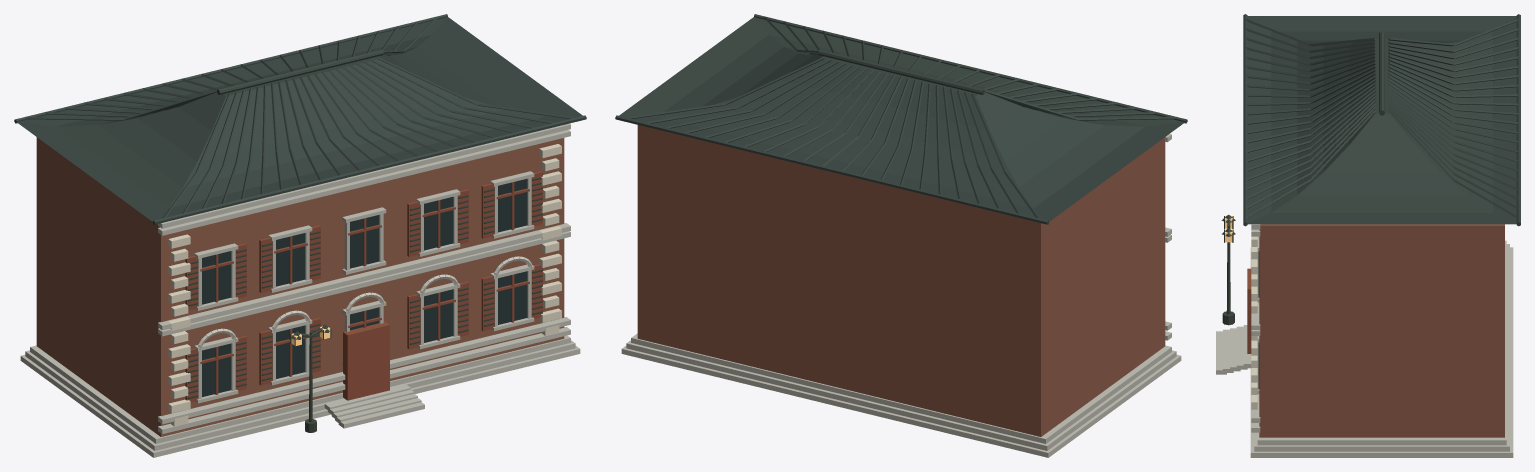
Rendered from beishan-villa.glb.
The picture shows the model from 3 angles, left to right: view 1: azimuth 30°, elevation 25°; view 2: azimuth 150°, elevation 25°; view 3: azimuth 270°, elevation 25°; orthographic projection.
Visible parts, largest first — view 1: Dark_Tile, Historic_RedBrick, Limestone, Lacquered_Wood, Deep_Glazing, White_Plaster, Patinated_Iron; view 2: Historic_RedBrick, Dark_Tile, Limestone; view 3: Dark_Tile, Historic_RedBrick, Limestone, White_Plaster, Patinated_Iron, Lacquered_Wood.
Boxes of the visible parts, <box> form: Dark_Tile: <box>14,14,586,224</box>; Historic_RedBrick: <box>36,137,564,436</box>; Limestone: <box>20,123,580,457</box>; Lacquered_Wood: <box>185,171,542,402</box>; Deep_Glazing: <box>202,179,527,397</box>; White_Plaster: <box>168,144,561,426</box>; Patinated_Iron: <box>188,177,542,432</box>; Historic_RedBrick: <box>637,125,1165,436</box>; Dark_Tile: <box>615,14,1187,224</box>; Limestone: <box>621,134,1181,457</box>; Dark_Tile: <box>1243,14,1520,226</box>; Historic_RedBrick: <box>1259,224,1504,437</box>; Limestone: <box>1216,224,1513,457</box>; White_Plaster: <box>1251,236,1257,409</box>; Patinated_Iron: <box>1221,214,1235,325</box>; Lacquered_Wood: <box>1247,268,1251,353</box>.
Bounding box in the file's own units: 12.84 × 8.18 × 7.95.
